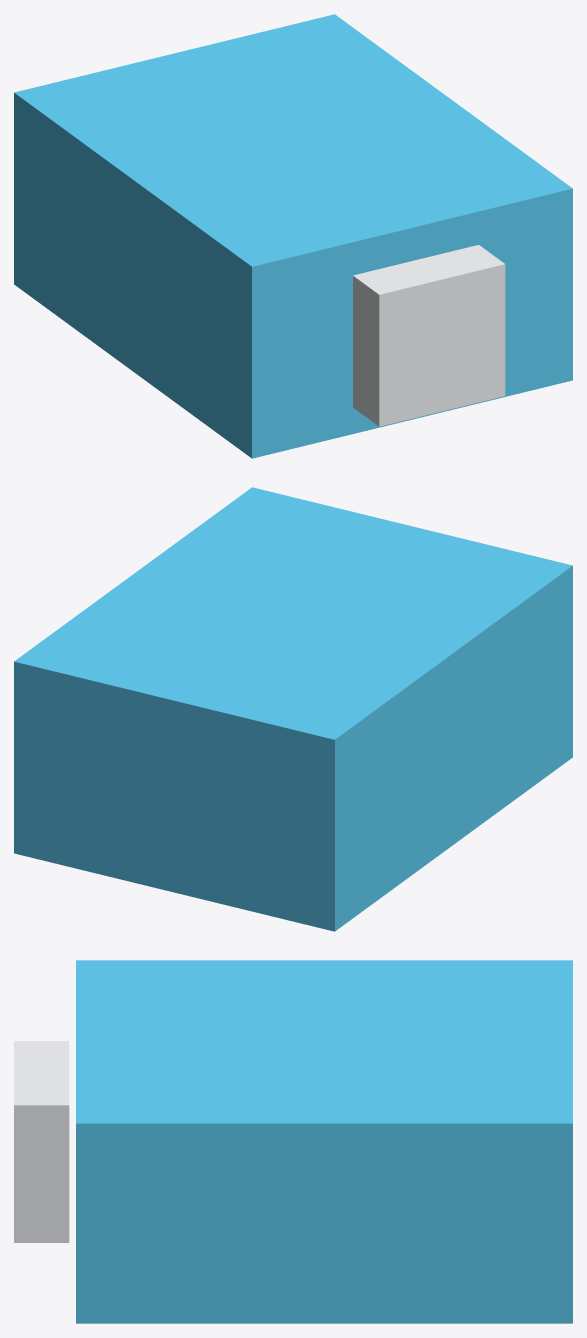
The model's file is dash_battery.glb.
3 views of the same model, one above another, from view 1: azimuth 30°, elevation 25°; view 2: azimuth 150°, elevation 25°; view 3: azimuth 270°, elevation 25° (orthographic). The views are drawn at different scales.
Visible parts, largest first — view 1: blue, white; view 2: blue; view 3: blue, white.
Boxes of the visible parts, x1,y1,x2,y2 form: blue: (14, 14, 572, 458); white: (353, 245, 505, 426); blue: (14, 487, 572, 931); blue: (76, 960, 572, 1323); white: (14, 1041, 69, 1242).
Bounding box in the file's own units: 0.56 × 0.365 × 0.81.
